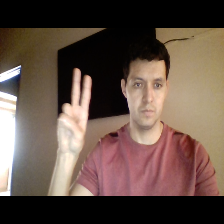KP: (54, 63, 95, 158)
